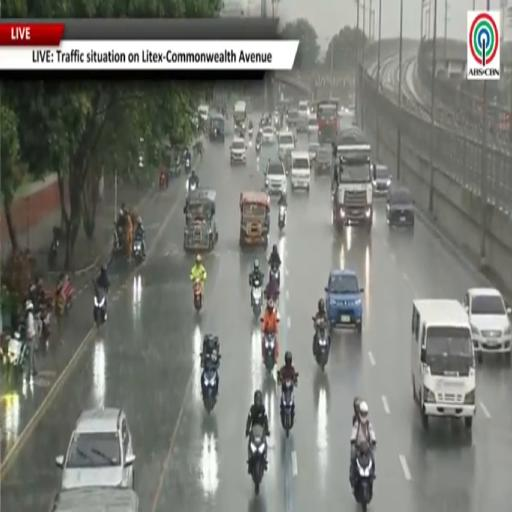car: (56, 408, 135, 489), (463, 287, 511, 362), (325, 269, 363, 333), (387, 186, 414, 227), (265, 159, 287, 194), (291, 152, 310, 191), (373, 164, 392, 196), (315, 146, 332, 174), (230, 137, 246, 165), (286, 109, 300, 128), (262, 125, 275, 145), (197, 104, 209, 122), (309, 142, 320, 161), (298, 101, 309, 119), (308, 117, 318, 136)
jeepney: (50, 487, 139, 511), (184, 188, 218, 250), (240, 191, 269, 248), (234, 101, 247, 134), (209, 114, 224, 142)
motorcycle: (249, 425, 267, 494), (353, 452, 374, 510), (201, 355, 220, 413), (280, 379, 296, 437), (313, 317, 330, 371), (7, 331, 27, 374), (54, 274, 74, 317), (38, 303, 50, 349), (93, 286, 106, 327), (264, 332, 276, 372), (48, 227, 59, 269), (252, 280, 262, 317), (113, 222, 124, 253), (193, 280, 203, 312), (132, 238, 143, 264), (270, 265, 280, 289), (159, 170, 168, 190), (278, 205, 285, 230), (187, 180, 197, 194), (185, 155, 191, 173), (248, 127, 253, 138)
truck: (333, 128, 373, 231), (317, 100, 339, 143)
